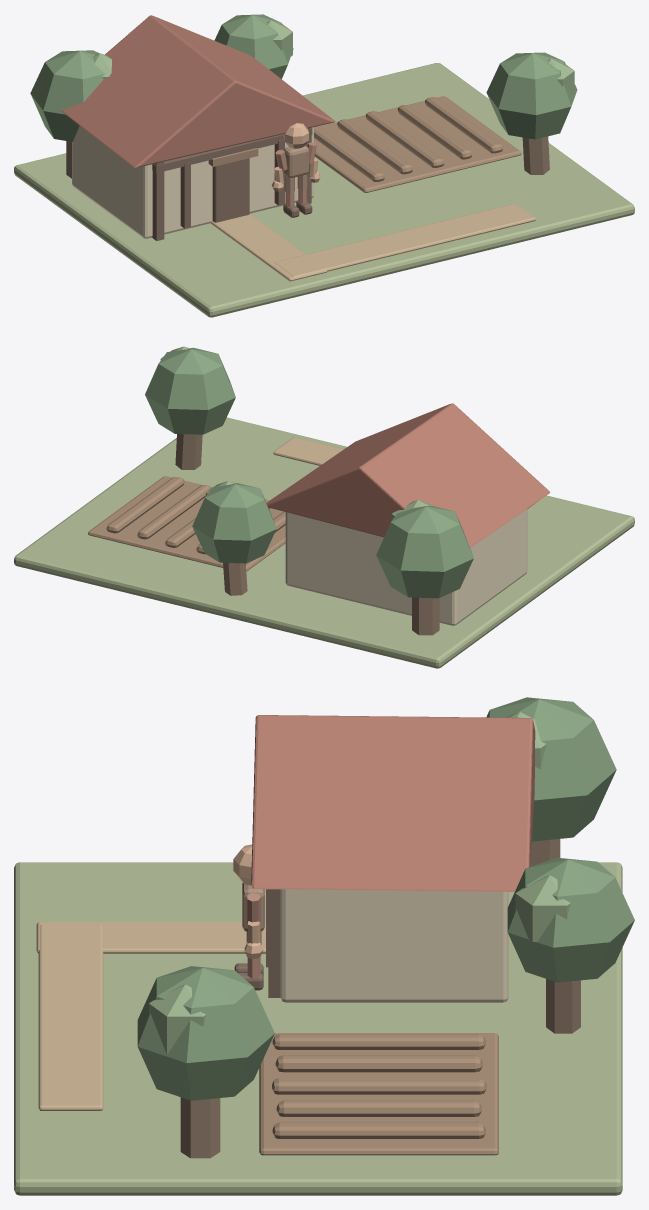
Rendered from village-corner-a.glb.
3 renders of one model, top to bottom at view 1: azimuth 30°, elevation 25°; view 2: azimuth 150°, elevation 25°; view 3: azimuth 270°, elevation 25°, orthographic. The views are drawn at different scales.
Parts seen in each view (by area): view 1: Parcel_Ground, House_Roof, House_Walls, Field_Bed, Tree_3_Crown, Path_Turn, Tree_1_Crown, Tree_2_Crown, Path_To_Door, Door, Beam_Cross, Furrow_3 (+12 smaller); view 2: Parcel_Ground, House_Roof, House_Walls, Tree_1_Crown, Tree_3_Crown, Tree_2_Crown, Field_Bed, Furrow_5, Path_Turn, Furrow_4, Tree_1_Trunk, Tree_3_Trunk (+1 smaller); view 3: Parcel_Ground, House_Roof, House_Walls, Field_Bed, Tree_3_Crown, Path_Turn, Tree_2_Crown, Tree_1_Crown, Path_To_Door, Furrow_2, Furrow_3, Furrow_5 (+7 smaller).
Boxes of the visible parts, x1,y1,x2,y2 form: Parcel_Ground: [14, 63, 634, 317]; House_Roof: [61, 15, 335, 167]; House_Walls: [72, 126, 313, 238]; Field_Bed: [314, 96, 521, 192]; Tree_3_Crown: [486, 52, 577, 139]; Path_Turn: [274, 203, 535, 276]; Tree_1_Crown: [30, 50, 104, 141]; Tree_2_Crown: [214, 14, 293, 78]; Path_To_Door: [210, 213, 327, 281]; Door: [212, 158, 249, 222]; Beam_Cross: [152, 128, 312, 173]; Furrow_3: [366, 111, 444, 167]; Parcel_Ground: [14, 417, 634, 668]; House_Roof: [266, 403, 550, 547]; House_Walls: [285, 509, 527, 625]; Tree_1_Crown: [376, 506, 473, 598]; Tree_3_Crown: [145, 347, 235, 434]; Tree_2_Crown: [192, 483, 276, 563]; Field_Bed: [88, 476, 285, 571]; Furrow_5: [106, 477, 184, 533]; Path_Turn: [273, 437, 343, 465]; Furrow_4: [137, 485, 211, 539]; Tree_1_Trunk: [412, 597, 439, 635]; Tree_3_Trunk: [175, 434, 202, 469]; Parcel_Ground: [14, 862, 622, 1195]; House_Roof: [251, 715, 535, 891]; House_Walls: [280, 889, 508, 1002]; Field_Bed: [259, 1033, 498, 1155]; Tree_3_Crown: [137, 966, 274, 1100]; Path_Turn: [38, 924, 103, 1110]; Tree_2_Crown: [507, 857, 634, 982]; Tree_1_Crown: [486, 697, 616, 841]; Path_To_Door: [36, 922, 265, 953]; Furrow_2: [275, 1055, 482, 1072]; Furrow_3: [272, 1078, 486, 1094]; Furrow_5: [272, 1122, 485, 1138].
Bounding box in the file's own units: 10.04 × 3.48 × 8.16.
